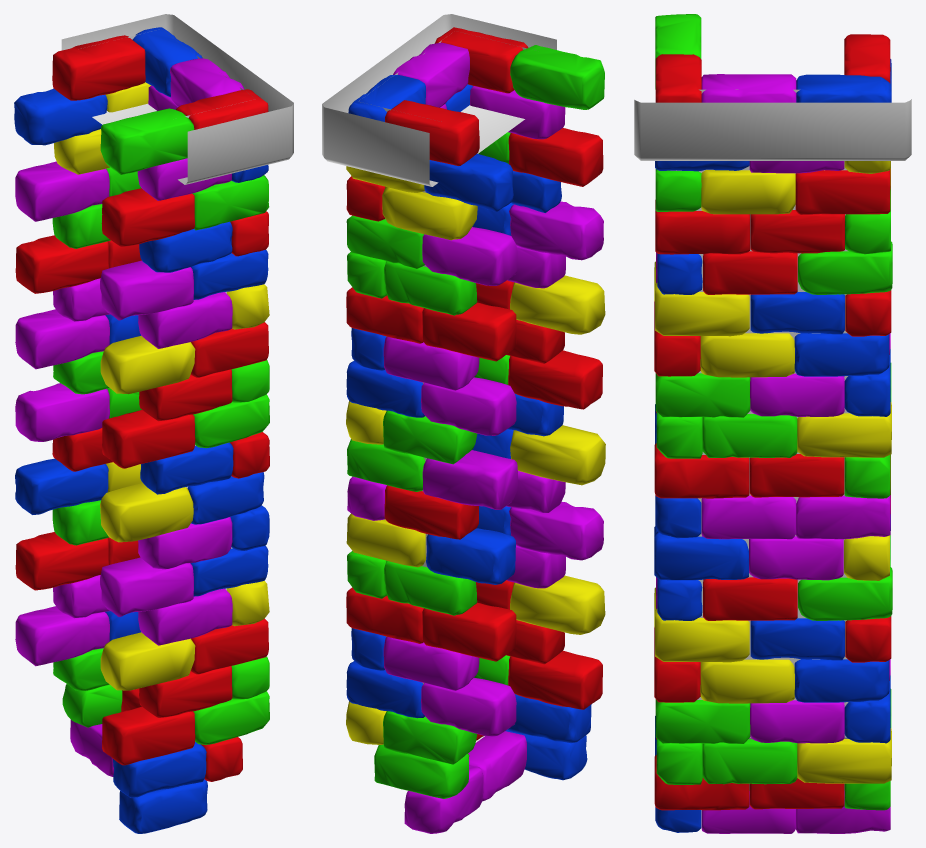
Rendered from column half-quarter height.fbx.
3 renders of one model, left to right at view 1: azimuth 30°, elevation 25°; view 2: azimuth 150°, elevation 25°; view 3: azimuth 270°, elevation 25°, orthographic. The views are drawn at different scales.
Parts seen in each view (by area): view 1: column, edge top; view 2: column, edge top; view 3: column, edge top.
Boxes of the visible parts, x1,y1,x2,y2 form: column: (14,27,269,833); edge top: (61,14,293,184); column: (346,27,605,833); edge top: (322,14,556,186); column: (654,14,892,833); edge top: (634,99,911,160).
Size of the model in its own units: 89.65 by 359 by 117.
